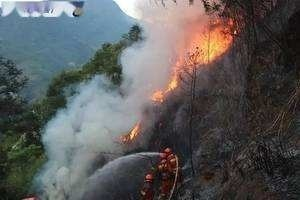fire: (151, 13, 237, 102), (150, 75, 178, 103), (118, 118, 142, 143)
